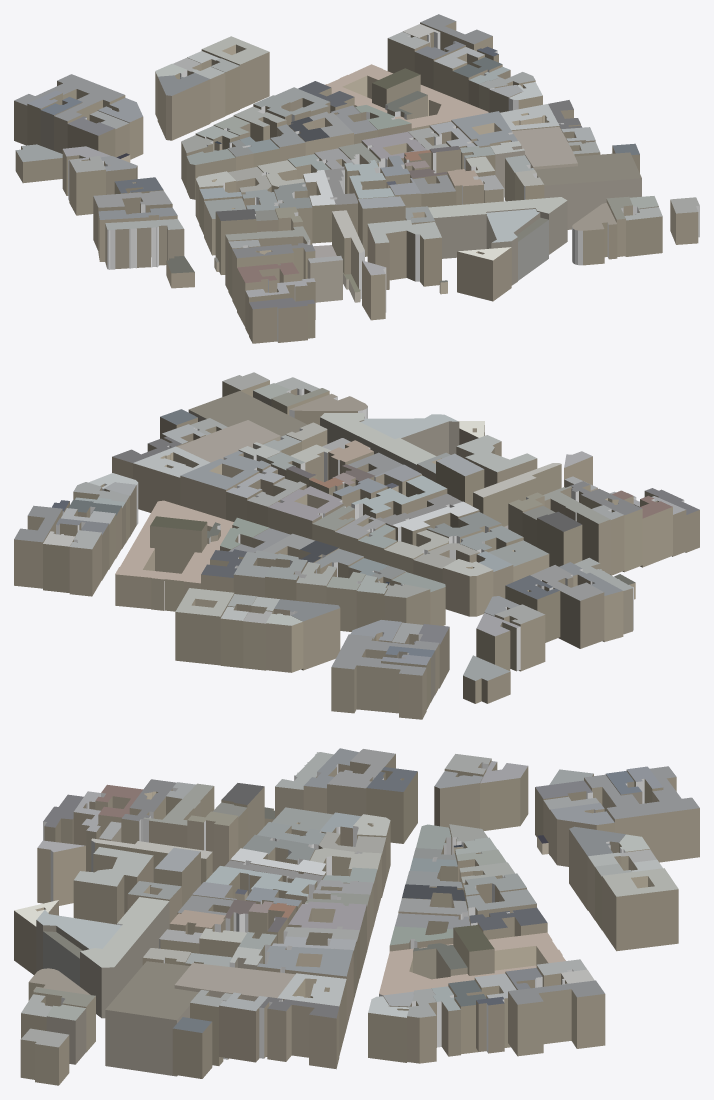
3 views of the same model, one above another, from view 1: azimuth 30°, elevation 25°; view 2: azimuth 150°, elevation 25°; view 3: azimuth 270°, elevation 25° (orthographic). The views are drawn at different scales.
Visible parts, largest first — view 1: tuile; view 2: tuile; view 3: tuile.
Part boxes in pixels (box(x1,y1,x2,y2)): tuile: box(14, 14, 699, 343); tuile: box(14, 372, 699, 719); tuile: box(14, 748, 699, 1085).
Bounding box in the file's own units: 276 × 37.93 × 278.
